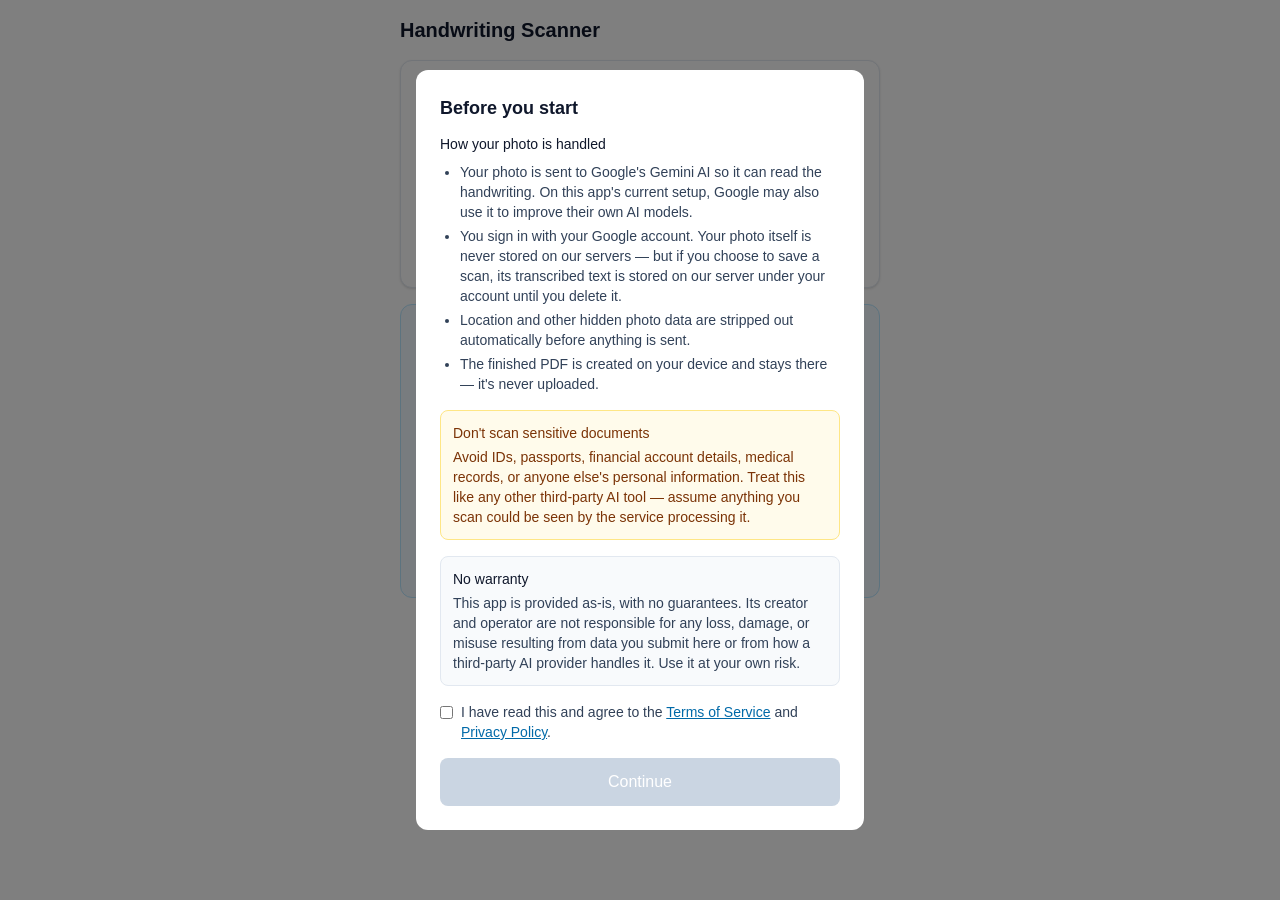
Test: ConsentGate (first-run disclaimer) › dismisses the gate and persists acceptance once confirmed
Expected: the heading "Before you start" is shown, [440,98,578,118]
Step 1. Click the checkbox → (446, 712), box [440,706,453,719]
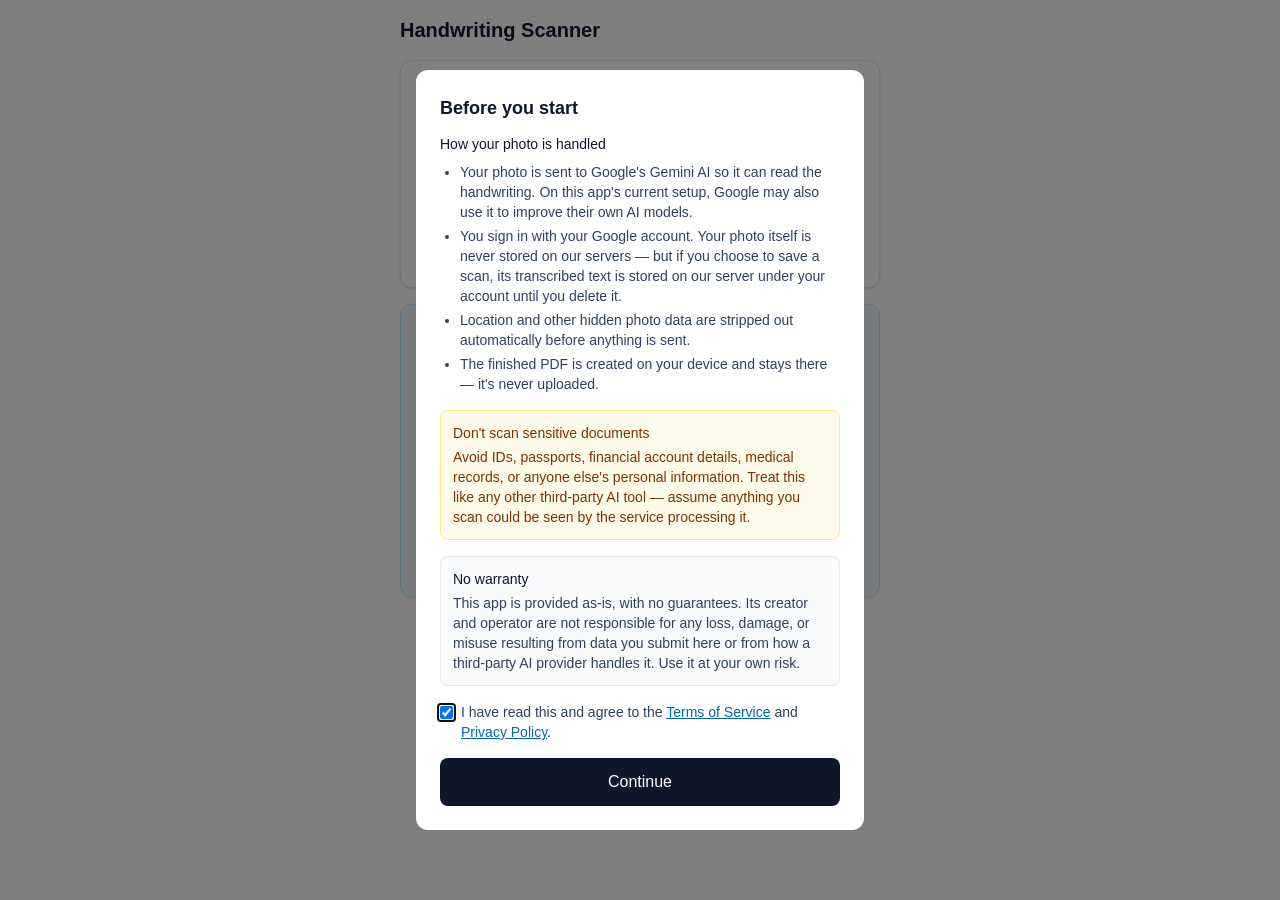
Step 2. Click the button "Continue" → (640, 782), box [440,758,840,806]
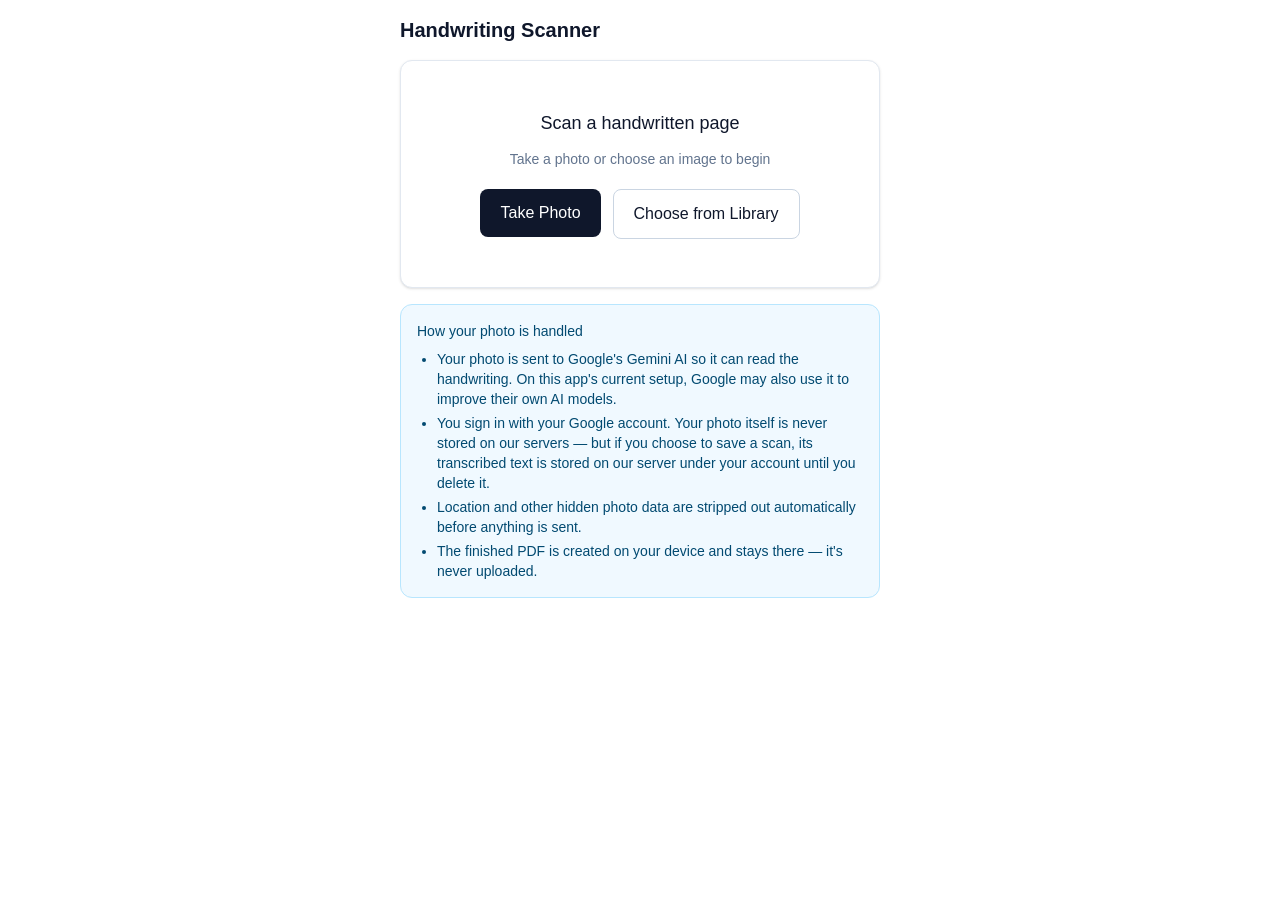
Expected: the heading "Before you start" is gone
